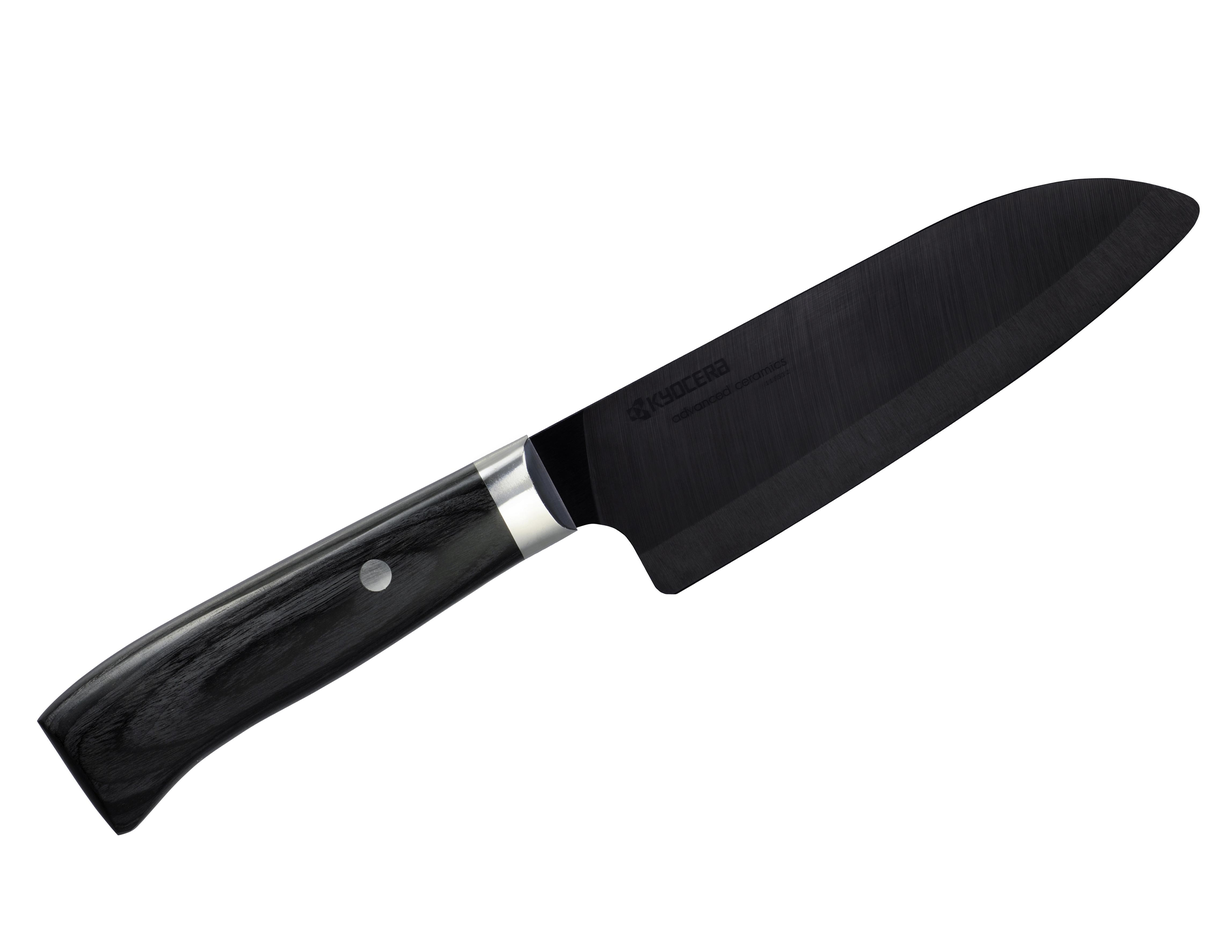Knife: (39, 173, 1199, 833)
